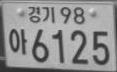1: (51, 28, 67, 64)
2: (69, 28, 89, 66)
5: (91, 28, 111, 65)
6: (31, 28, 49, 63)
8: (74, 6, 87, 25)
9: (59, 6, 72, 24)
경기_H: (26, 5, 57, 24)
아: (8, 28, 28, 55)
